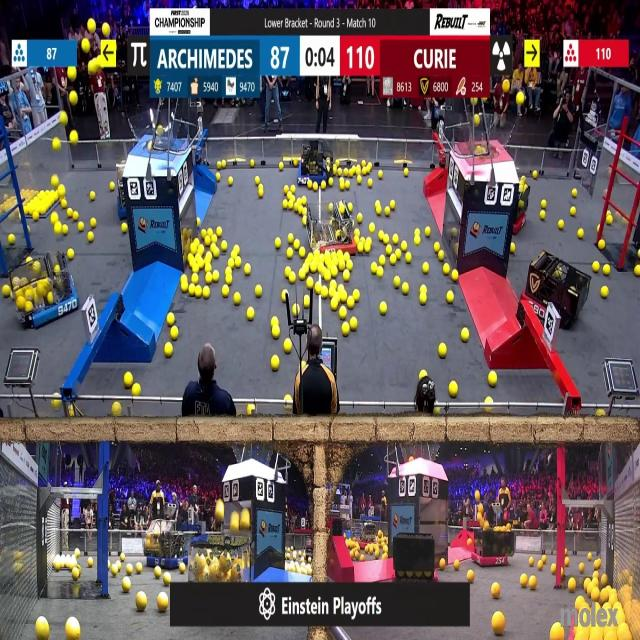ball_airborne: (215, 503, 225, 523), (241, 511, 251, 530), (232, 514, 241, 532), (102, 24, 110, 38), (156, 126, 166, 137), (69, 132, 78, 144), (90, 61, 98, 74), (81, 39, 89, 52), (70, 92, 78, 105), (89, 20, 97, 33), (68, 67, 76, 80), (517, 94, 525, 106), (61, 112, 68, 125), (59, 184, 66, 197), (54, 139, 62, 150), (474, 145, 482, 156), (502, 80, 509, 92), (53, 178, 60, 190), (50, 212, 57, 223), (472, 114, 478, 125), (474, 490, 480, 501), (63, 224, 69, 234), (56, 223, 62, 233), (484, 521, 490, 530), (479, 504, 485, 512), (148, 142, 153, 151)
ball_ground: (36, 618, 49, 640), (67, 619, 80, 640), (492, 614, 504, 636), (159, 594, 170, 612), (137, 593, 147, 611), (552, 625, 564, 640), (449, 382, 458, 397), (125, 373, 134, 388), (112, 404, 121, 418), (489, 373, 497, 387), (440, 344, 448, 358), (272, 356, 280, 370), (122, 579, 130, 593), (492, 585, 499, 600), (171, 326, 179, 339), (380, 303, 388, 316), (568, 580, 576, 593), (575, 597, 583, 610), (592, 589, 600, 602), (284, 340, 291, 354), (529, 576, 536, 590), (2, 285, 10, 297), (466, 569, 474, 581), (133, 384, 141, 396), (164, 572, 172, 584), (340, 308, 348, 320), (72, 567, 80, 579), (340, 291, 348, 303), (168, 313, 175, 326), (461, 328, 468, 341), (350, 318, 357, 331), (166, 345, 173, 358), (521, 574, 528, 587), (420, 293, 428, 304), (212, 247, 220, 258), (600, 574, 608, 585), (601, 286, 608, 298), (235, 292, 242, 304), (247, 308, 254, 320), (203, 286, 210, 298), (273, 326, 280, 338), (68, 248, 75, 260), (343, 323, 350, 335), (221, 285, 228, 297), (353, 289, 360, 301), (244, 265, 251, 277), (330, 300, 337, 312), (51, 398, 59, 408), (194, 254, 202, 264), (447, 291, 454, 302), (603, 266, 610, 277), (452, 271, 459, 282), (286, 248, 293, 259), (379, 254, 386, 265), (401, 283, 408, 294), (389, 254, 396, 265), (284, 268, 291, 279), (255, 285, 261, 297), (194, 285, 200, 297), (89, 232, 95, 244), (305, 295, 311, 307), (322, 286, 328, 298), (327, 288, 335, 297), (204, 237, 212, 246), (91, 218, 98, 228), (154, 567, 161, 577), (444, 266, 451, 276), (598, 240, 605, 250), (179, 563, 186, 573), (298, 270, 305, 280), (136, 563, 143, 573), (406, 252, 413, 262), (187, 284, 194, 294), (187, 253, 194, 263), (234, 245, 241, 255), (220, 242, 227, 252), (539, 200, 546, 210), (111, 565, 118, 575), (323, 271, 330, 281), (594, 263, 600, 274), (298, 247, 304, 258), (394, 277, 400, 288), (422, 264, 428, 275), (370, 264, 376, 275), (8, 235, 14, 246), (128, 564, 134, 575), (212, 273, 218, 284), (225, 274, 231, 285), (511, 243, 517, 254), (315, 283, 321, 294), (289, 273, 295, 284), (605, 213, 611, 224), (396, 248, 402, 259), (206, 274, 212, 285), (348, 299, 354, 310), (420, 284, 428, 292), (204, 266, 212, 274), (272, 317, 279, 326), (594, 560, 601, 569), (329, 279, 336, 288), (276, 238, 282, 248), (577, 230, 583, 240), (91, 190, 97, 200), (344, 272, 350, 282), (236, 257, 242, 267), (539, 210, 545, 220), (558, 219, 564, 229), (191, 274, 197, 284), (78, 221, 84, 231), (308, 278, 314, 288), (392, 236, 398, 246), (287, 234, 293, 244), (340, 182, 346, 192), (331, 269, 337, 279), (347, 262, 353, 272), (257, 187, 263, 197), (227, 257, 233, 267), (320, 180, 326, 190), (360, 244, 366, 254), (578, 562, 584, 572), (293, 240, 299, 250), (348, 203, 354, 213), (440, 251, 446, 261), (311, 264, 317, 274), (216, 226, 222, 236), (296, 205, 302, 215), (183, 274, 189, 284), (340, 264, 346, 274), (330, 183, 336, 193), (108, 182, 115, 190), (190, 266, 197, 274), (62, 201, 69, 209), (597, 411, 604, 419), (635, 267, 640, 278), (441, 559, 446, 570), (401, 241, 406, 252), (570, 207, 576, 216), (454, 561, 460, 570), (386, 245, 392, 254), (378, 269, 384, 278), (356, 175, 362, 184), (254, 176, 260, 185), (390, 201, 396, 210), (420, 368, 426, 377), (532, 171, 538, 180), (303, 217, 309, 226), (33, 212, 39, 221), (338, 168, 344, 177), (212, 236, 218, 245), (292, 306, 297, 316), (434, 242, 439, 252), (425, 228, 430, 238), (552, 564, 557, 574), (73, 211, 78, 221), (247, 408, 252, 418), (384, 235, 389, 245), (344, 168, 349, 178), (571, 188, 577, 196), (415, 238, 421, 246), (379, 233, 385, 241), (284, 185, 290, 193), (356, 214, 362, 222), (354, 230, 360, 238), (377, 207, 383, 215), (67, 209, 73, 217), (308, 181, 314, 189), (121, 223, 126, 232), (564, 558, 569, 567), (283, 201, 288, 210), (379, 171, 384, 180), (327, 178, 332, 187), (290, 184, 295, 193), (486, 396, 492, 403), (303, 198, 309, 205), (302, 208, 308, 215), (282, 292, 286, 302), (368, 223, 373, 231), (227, 177, 232, 185), (434, 410, 439, 418), (529, 558, 534, 566), (385, 208, 390, 216), (313, 182, 318, 190), (367, 178, 371, 188), (279, 164, 284, 172), (415, 230, 420, 238), (361, 168, 366, 176), (75, 550, 80, 558), (345, 252, 350, 260), (560, 567, 565, 575), (383, 554, 388, 562), (287, 191, 292, 199), (195, 217, 199, 226), (538, 561, 542, 570), (346, 180, 350, 189), (328, 204, 332, 213), (119, 555, 124, 562), (596, 224, 601, 231), (403, 169, 407, 177), (90, 559, 94, 567), (216, 174, 220, 182), (293, 159, 297, 167), (564, 550, 568, 558), (542, 556, 546, 564), (202, 231, 206, 239), (108, 562, 112, 570), (360, 556, 365, 562), (467, 538, 472, 544), (250, 161, 254, 168), (589, 554, 593, 561), (208, 227, 212, 234), (217, 162, 220, 170)
goal: (460, 118, 518, 158), (129, 114, 187, 154)
robot_blue: (10, 256, 80, 329), (145, 527, 190, 567), (299, 140, 337, 186)
robot_red: (526, 254, 592, 330), (473, 521, 517, 565), (313, 207, 355, 253), (508, 188, 526, 235)
